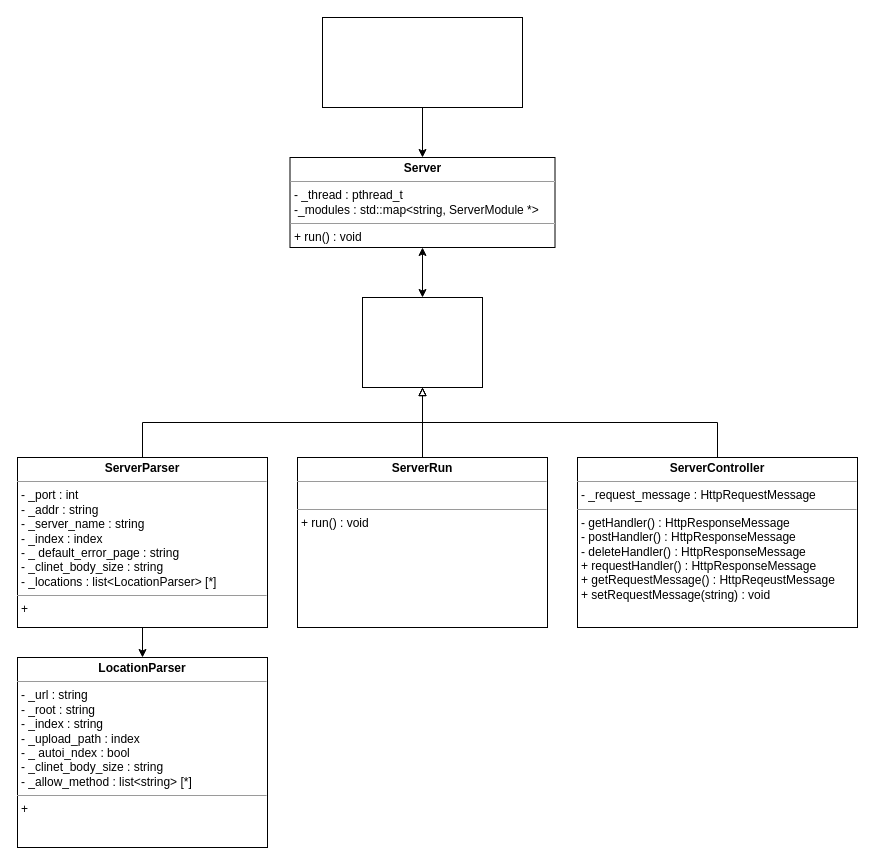
The diagram is 875 pixels wide and 865 high, and some of its shapes have lost their labels. The box of each missing label's shape, as (x1, y1, x2, y2) in pixels:
ServerModule # _self : Server * + run() : void: (362, 296, 482, 388)
Webserver - _servers : list<Server> [*] + run() : void: (322, 16, 522, 108)
